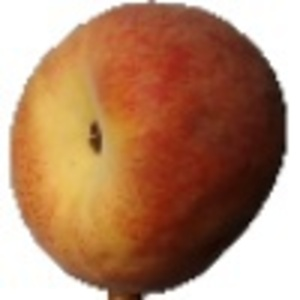pêssego: (1, 1, 289, 300)
